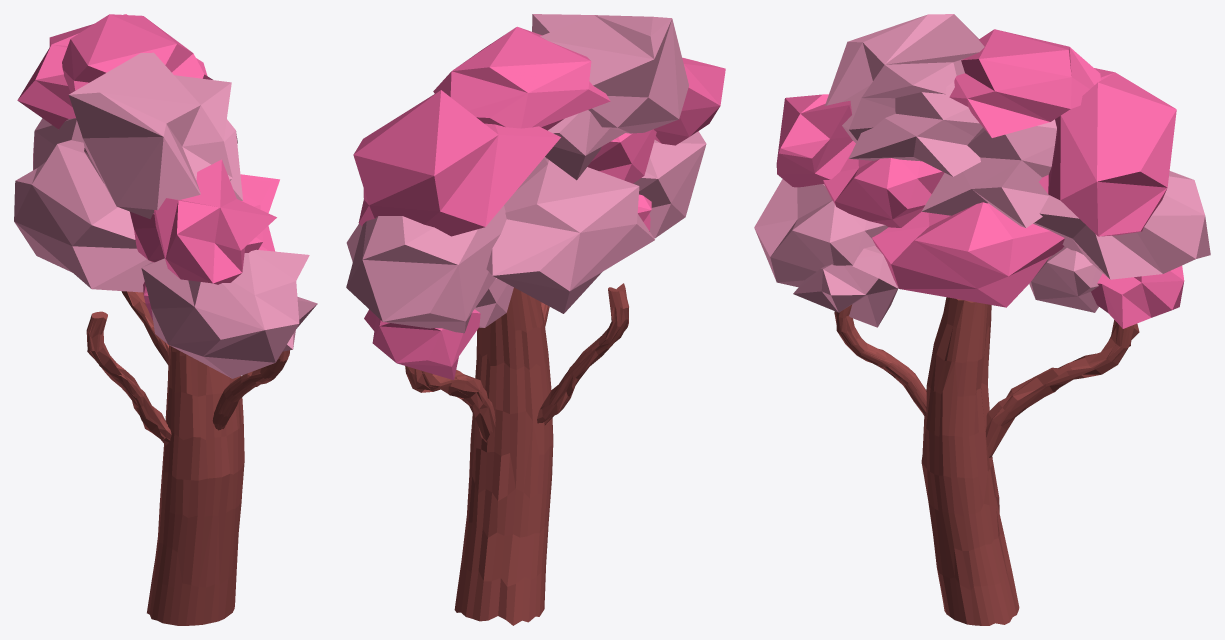
Rendered from cherry_tree.fbx.
3 views of the same model, side by side, from view 1: azimuth 30°, elevation 25°; view 2: azimuth 150°, elevation 25°; view 3: azimuth 270°, elevation 25° (orthographic). The views are drawn at different scales.
Visible parts, largest first — view 1: Icosphere, Cylinder.002; view 2: Icosphere, Cylinder.002; view 3: Icosphere, Cylinder.002.
Boxes of the visible parts, bbox=[...] form: Icosphere: bbox=[14, 14, 317, 378]; Cylinder.002: bbox=[86, 291, 289, 625]; Icosphere: bbox=[346, 14, 725, 380]; Cylinder.002: bbox=[405, 283, 628, 625]; Icosphere: bbox=[754, 14, 1210, 328]; Cylinder.002: bbox=[834, 297, 1139, 625].
Size of the model in its own units: 341 by 851 by 647.
